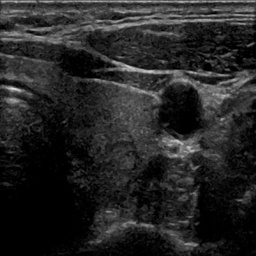mass: (90, 133, 135, 210)
